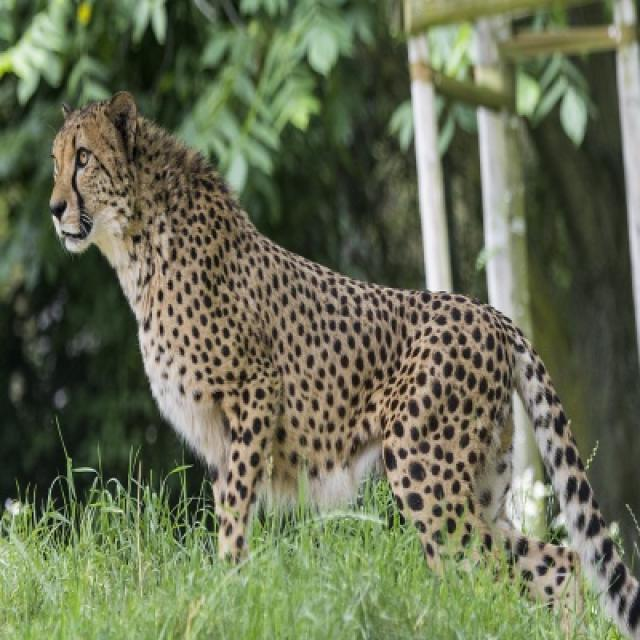Cheetah: (50, 93, 638, 627)
